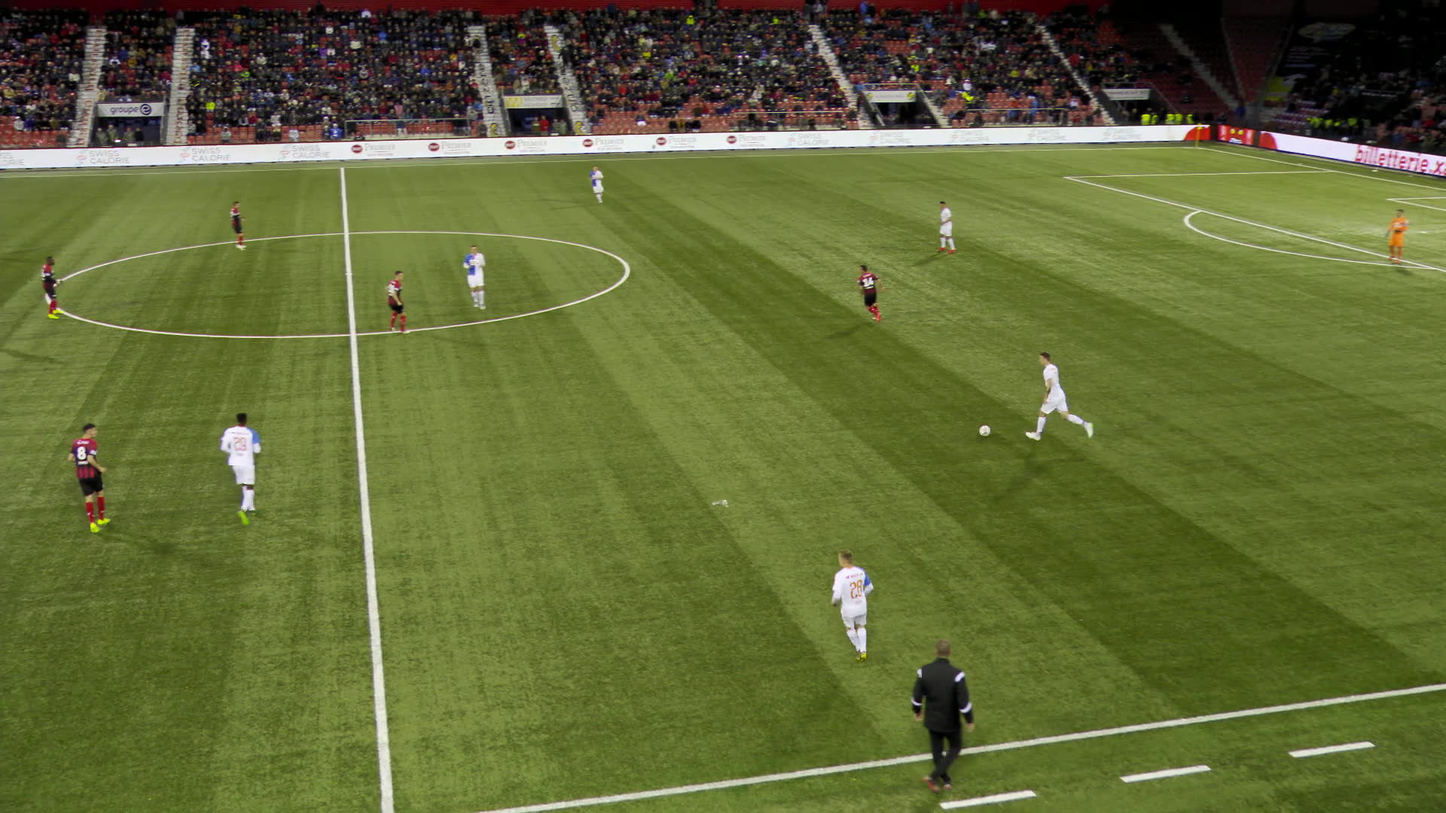ball: (981, 425, 992, 437)
player: (825, 554, 880, 661), (66, 426, 108, 534), (1037, 355, 1085, 444), (218, 416, 257, 522), (856, 264, 883, 322), (462, 246, 485, 310), (383, 271, 406, 335), (38, 257, 60, 318), (1380, 209, 1405, 262), (932, 202, 956, 254), (226, 202, 246, 250), (587, 165, 602, 203)
